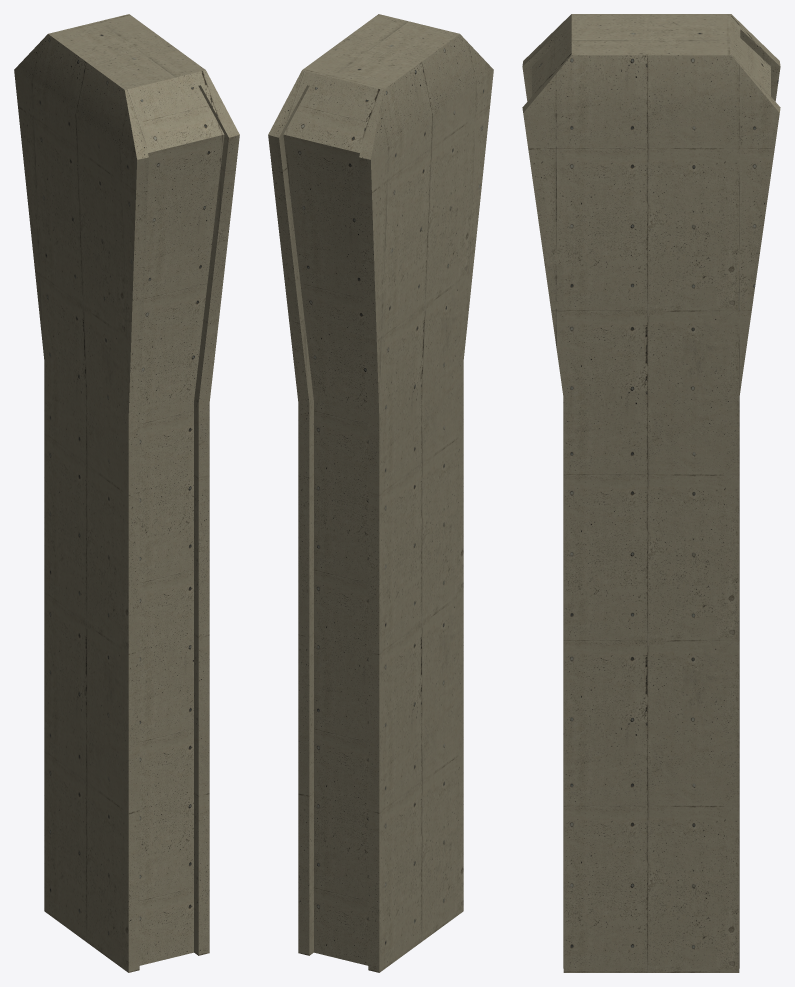
The model's file is Pylon.fbx.
3 renders of one model, left to right at view 1: azimuth 30°, elevation 25°; view 2: azimuth 150°, elevation 25°; view 3: azimuth 270°, elevation 25°, orthographic. The views are drawn at different scales.
Parts seen in each view (by area): view 1: Pylon; view 2: Pylon; view 3: Pylon.
Boxes of the visible parts, x1=… form: Pylon: x1=14, y1=14, x2=239, y2=972; Pylon: x1=268, y1=14, x2=493, y2=972; Pylon: x1=522, y1=14, x2=780, y2=972.
Bounding box in the file's own units: 5.47 × 44.76 × 11.41.
